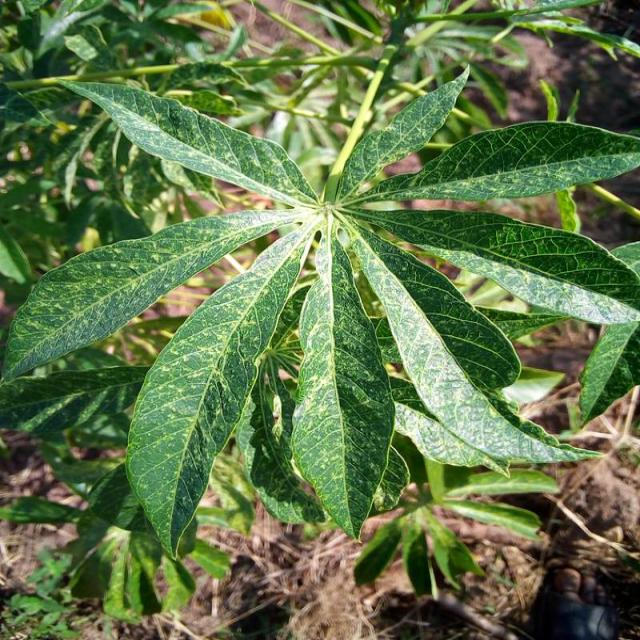cassava leaf: (1, 62, 638, 562), (123, 222, 314, 561), (289, 220, 396, 542)
